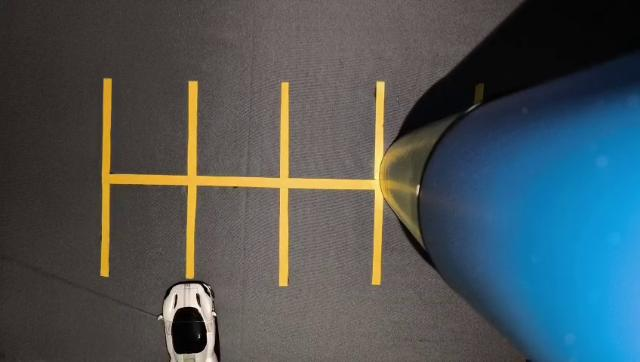toy_car: (150, 259, 235, 362)
